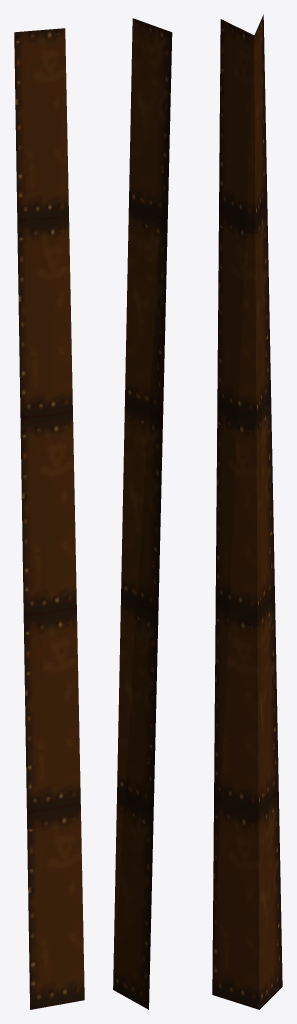
Rendered from Stütze_GeradeHell2_893.glb.
3 views of the same model, side by side, from view 1: azimuth 30°, elevation 25°; view 2: azimuth 210°, elevation 25°; view 3: azimuth 330°, elevation 25° (orthographic).
Parts seen in each view (by area): view 1: pPlaneShape70; view 2: pPlaneShape70; view 3: pPlaneShape70.
Boxes of the visible parts, <box> form: pPlaneShape70: <box>14,28,84,1009</box>; pPlaneShape70: <box>113,18,172,1009</box>; pPlaneShape70: <box>212,14,282,1009</box>.
Bounding box in the file's own units: 0.0591 × 1 × 0.059.
Materials: 1 (1 with a texture image).
